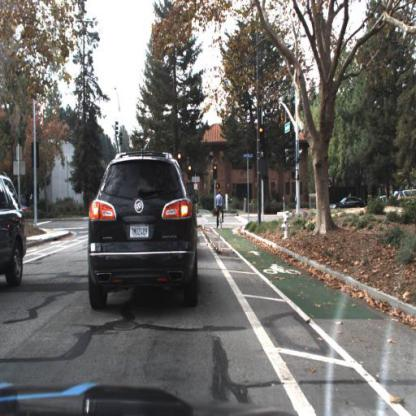biker: (216, 192, 225, 230)
car: (87, 150, 199, 310), (1, 170, 29, 295), (328, 192, 369, 219), (329, 195, 369, 211)
trafficLight-Red: (259, 126, 268, 153), (258, 125, 266, 150), (188, 164, 194, 182), (213, 164, 219, 181), (178, 152, 183, 169)
